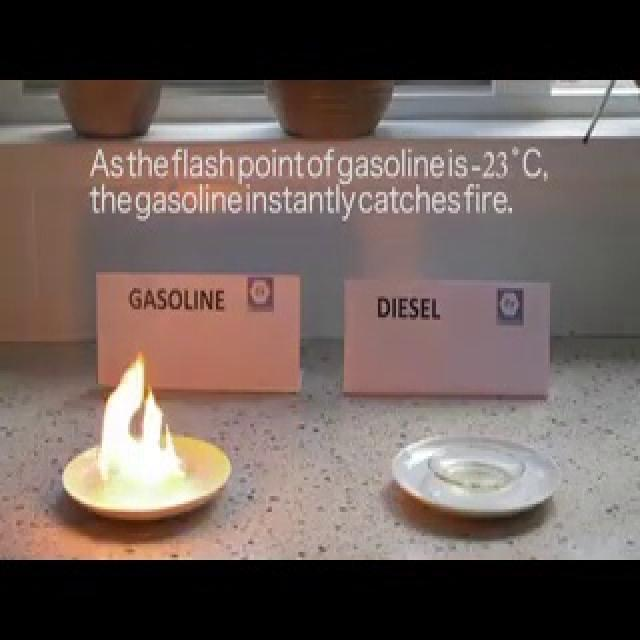Fire: (75, 347, 203, 512)
